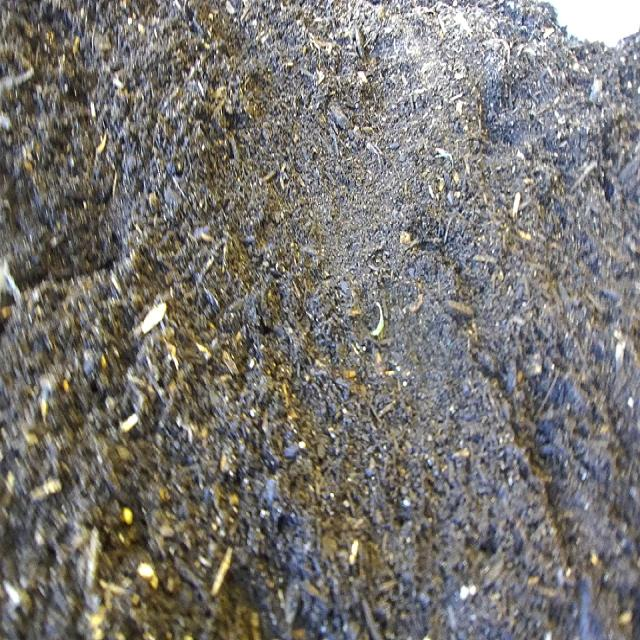Unhealthy: (362, 279, 394, 351)
